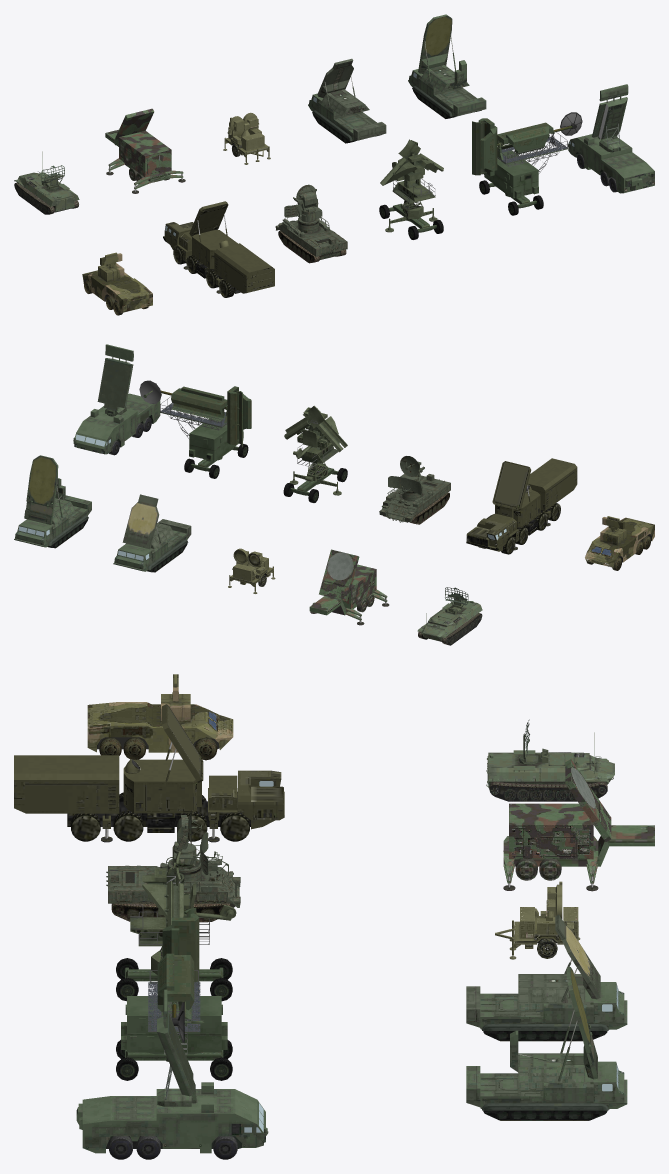
Rendered from industrial_missile_platform.glb.
3 views of the same model, one above another, from view 1: azimuth 30°, elevation 25°; view 2: azimuth 150°, elevation 25°; view 3: azimuth 270°, elevation 25° (orthographic). The views are drawn at different scales.
Parts seen in each view (by area): view 1: FlapLid, radaraxis, SnowDriftE, radar, hull, radar.003, FM-90_Radar, StraightFlush, radar.002, GrillPan, GrillScreen, box (+9 smaller); view 2: FlapLid, radaraxis, SnowDriftE, radar.003, radar, FM-90_Radar, radar.002, StraightFlush, hull, GrillPan, box, GrillScreen (+8 smaller); view 3: FlapLid, SnowDriftE, GrillScreen, FM-90_Radar, GrillPan, radar, radar.002, DogEar, hull, StraightFlush, radaraxis, radar.003 (+8 smaller).
Part boxes in pixels (left/top/right/bottom): FlapLid: left=163, top=222, right=274, bottom=297; radaraxis: left=472, top=112, right=582, bottom=176; SnowDriftE: left=568, top=134, right=654, bottom=193; radar: left=113, top=108, right=171, bottom=177; hull: left=483, top=130, right=567, bottom=198; radar.003: left=418, top=14, right=469, bottom=92; FM-90_Radar: left=82, top=263, right=152, bottom=315; StraightFlush: left=275, top=217, right=347, bottom=263; radar.002: left=189, top=201, right=237, bottom=269; GrillPan: left=308, top=93, right=386, bottom=143; GrillScreen: left=408, top=69, right=486, bottom=118; box: left=380, top=152, right=443, bottom=203; FlapLid: left=466, top=458, right=577, bottom=554; radaraxis: left=139, top=380, right=251, bottom=447; SnowDriftE: left=73, top=393, right=160, bottom=455; radar.003: left=24, top=455, right=75, bottom=524; radar: left=319, top=549, right=376, bottom=608; FM-90_Radar: left=585, top=517, right=654, bottom=570; radar.002: left=492, top=461, right=540, bottom=527; StraightFlush: left=379, top=474, right=450, bottom=524; hull: left=160, top=396, right=243, bottom=461; GrillPan: left=113, top=519, right=191, bottom=572; box: left=284, top=413, right=347, bottom=467; GrillScreen: left=14, top=495, right=91, bottom=548; FlapLid: left=14, top=755, right=284, bottom=842; SnowDriftE: left=76, top=1082, right=268, bottom=1159; GrillScreen: left=466, top=1061, right=627, bottom=1120; FM-90_Radar: left=87, top=694, right=233, bottom=760; GrillPan: left=466, top=982, right=627, bottom=1041; radar: left=509, top=759, right=611, bottom=859; radar.002: left=123, top=704, right=203, bottom=813; DogEar: left=486, top=732, right=614, bottom=801; hull: left=121, top=970, right=227, bottom=1056; StraightFlush: left=106, top=857, right=240, bottom=922; radaraxis: left=157, top=908, right=203, bottom=1042; radar.003: left=510, top=967, right=597, bottom=1082.
Size of the model in its own units: 8 by 1.31 by 5.14.
40 materials, 39 textured.
